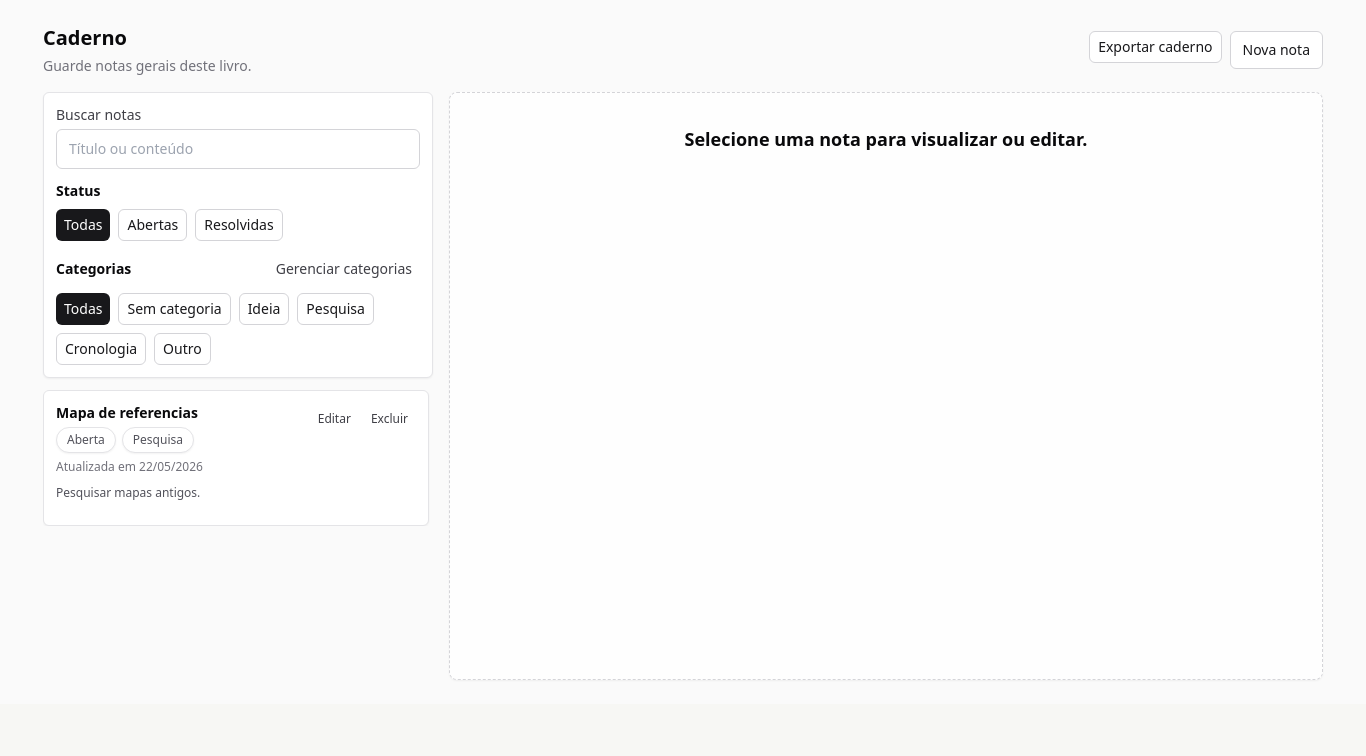
Test: NotebookPanel writing layout and status › criar nota abre a nota e a mantem visivel
Click the button "Resolvidas".
click(239, 225)  # box [195, 209, 283, 241]
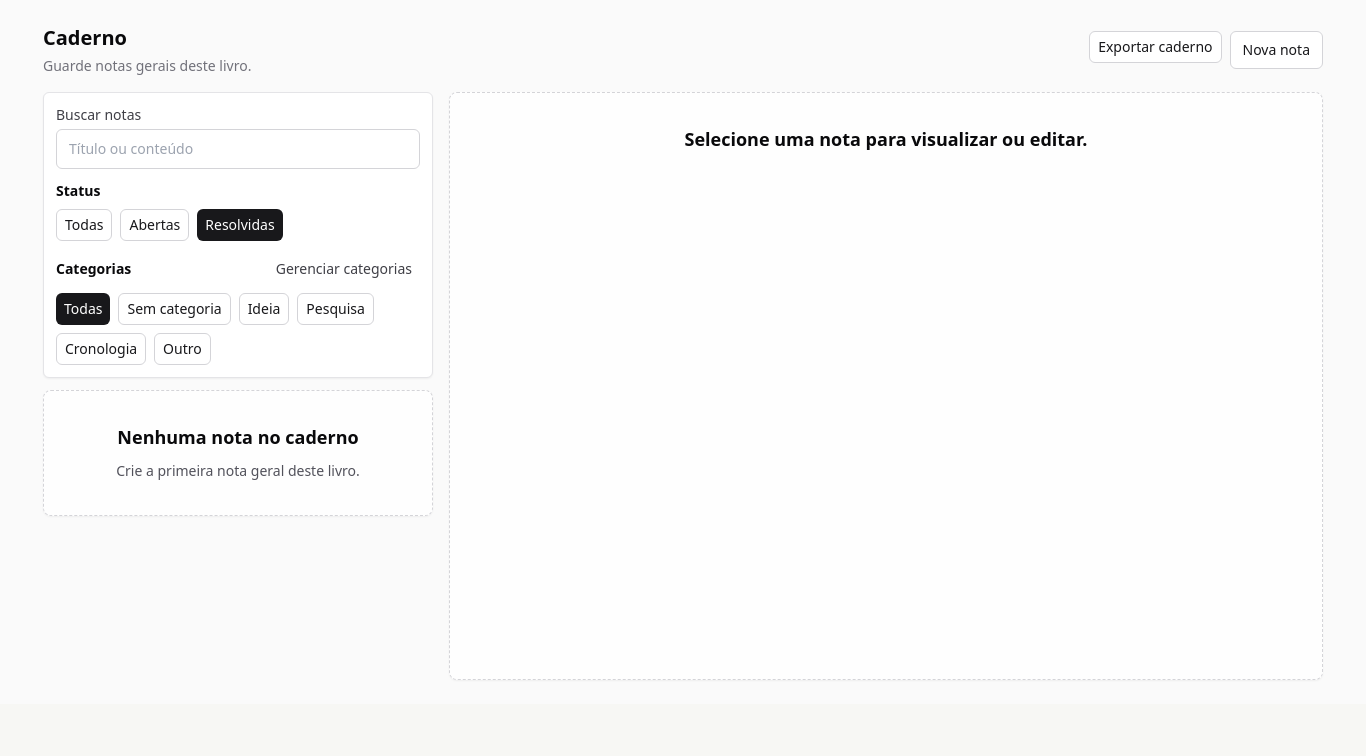
Type "nao aparece" into the field labelled "Buscar notas".
click(238, 149); type("nao aparece")  # box [56, 129, 420, 169]
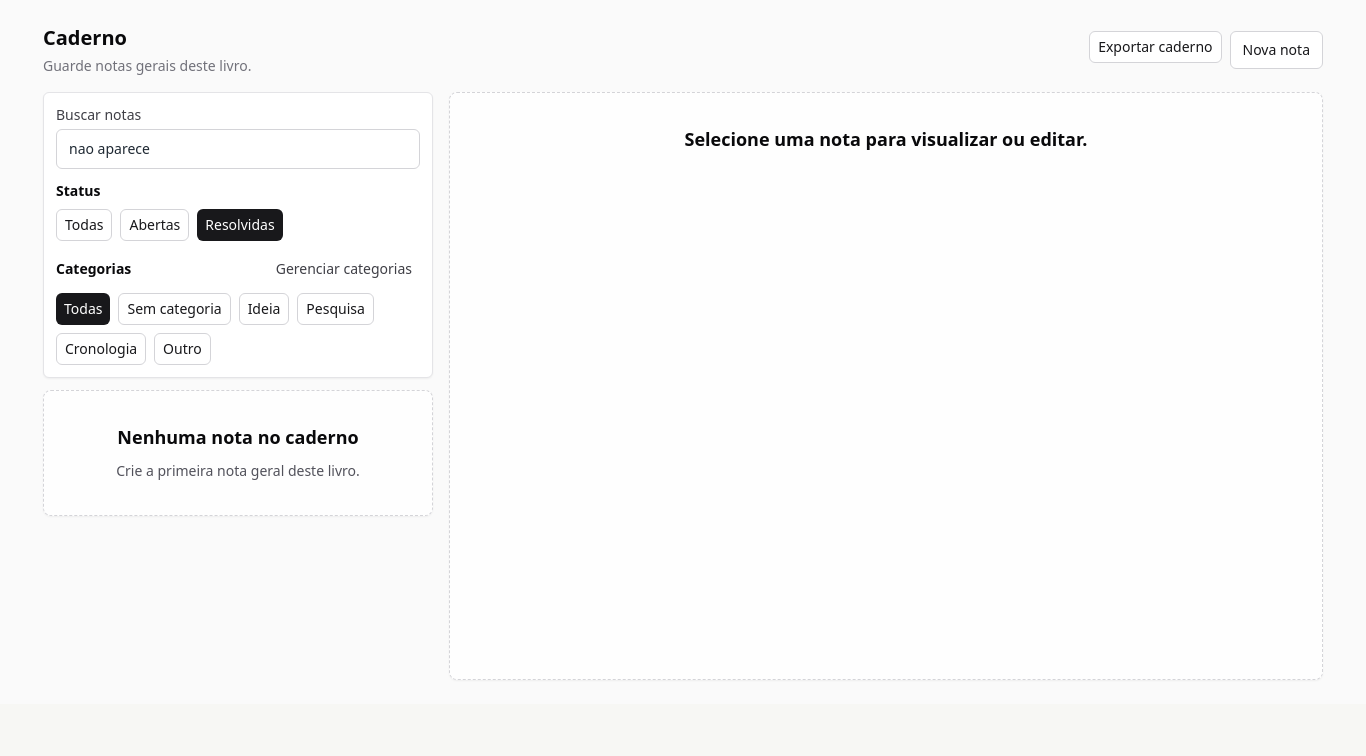
Click the button "Nova nota".
click(1276, 50)  # box [1230, 31, 1323, 69]
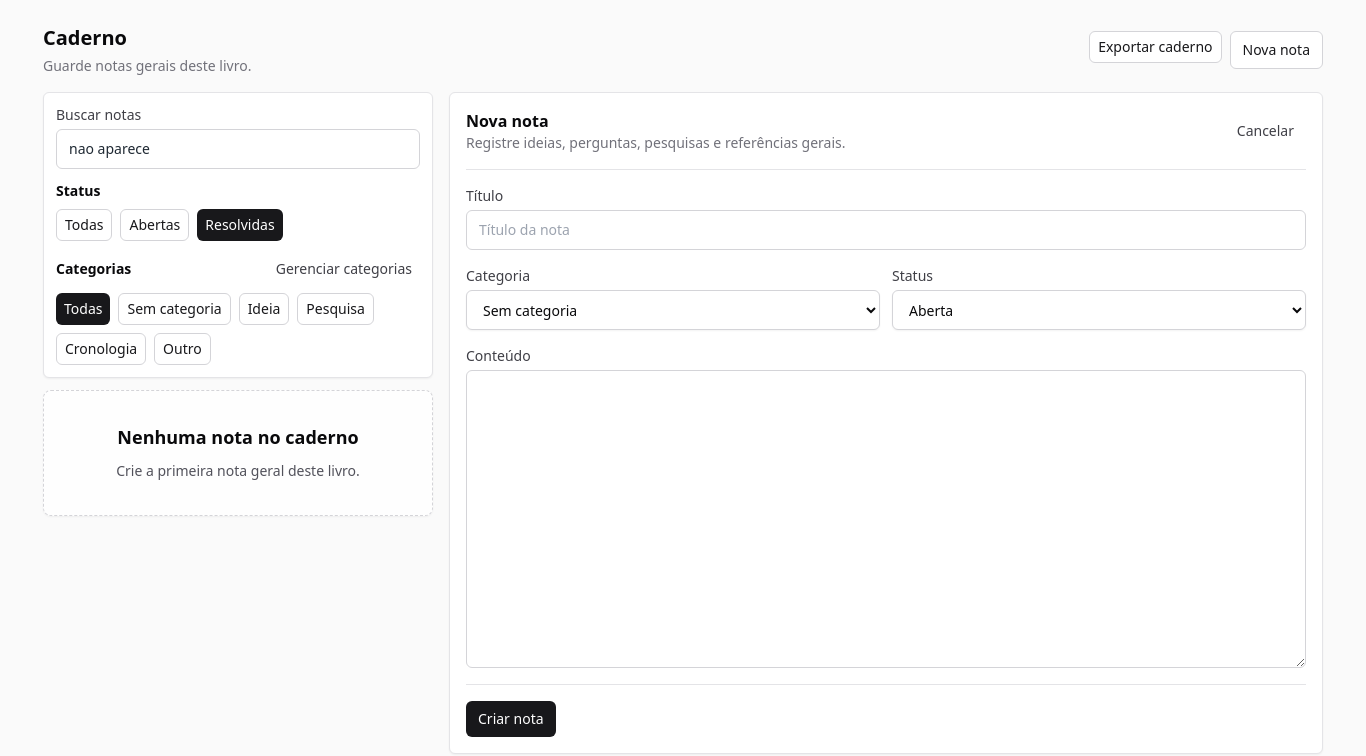
Type "Linha alternativa" into the field labelled "Título".
click(886, 230); type("Linha alternativa")  # box [466, 210, 1306, 250]
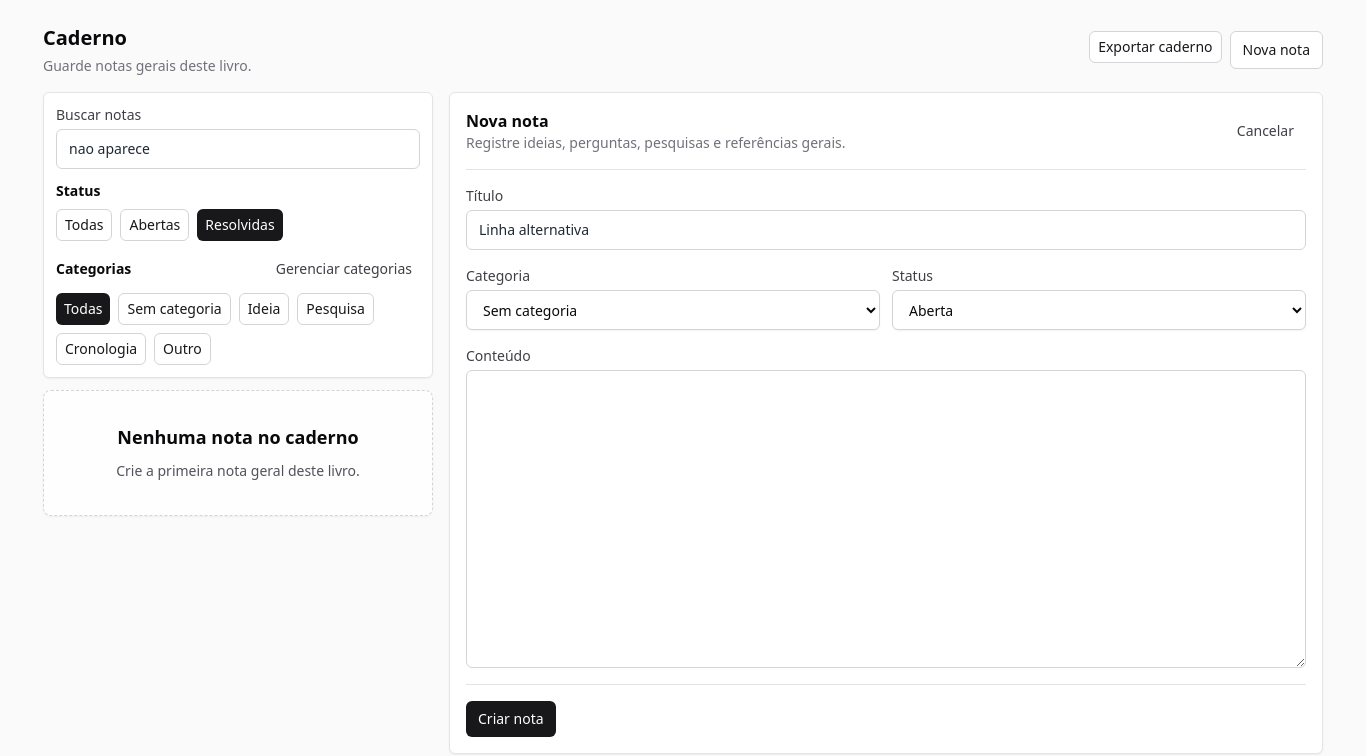
Select "Cronologia" in the dropdown labelled "Categoria" at (673,310), box [466, 290, 880, 330]
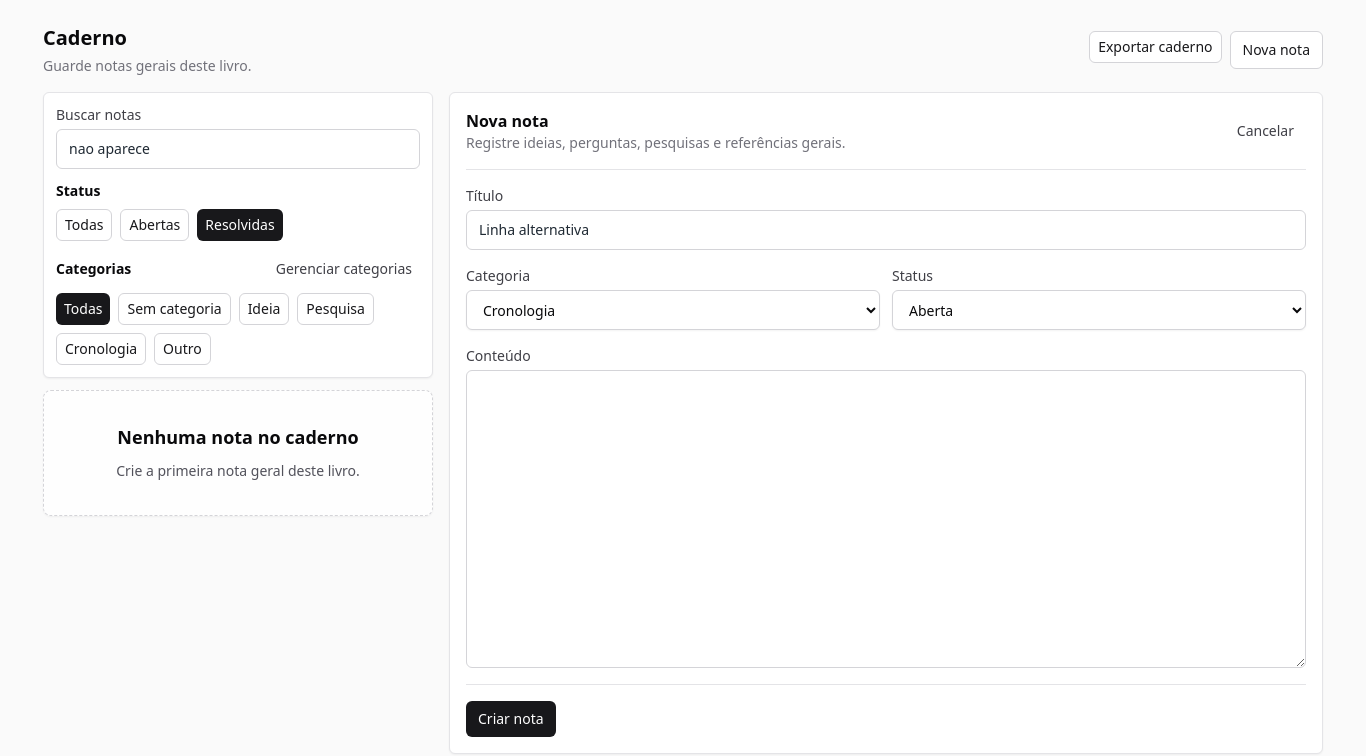
Click the button "Criar nota".
click(511, 719)  # box [466, 701, 556, 737]
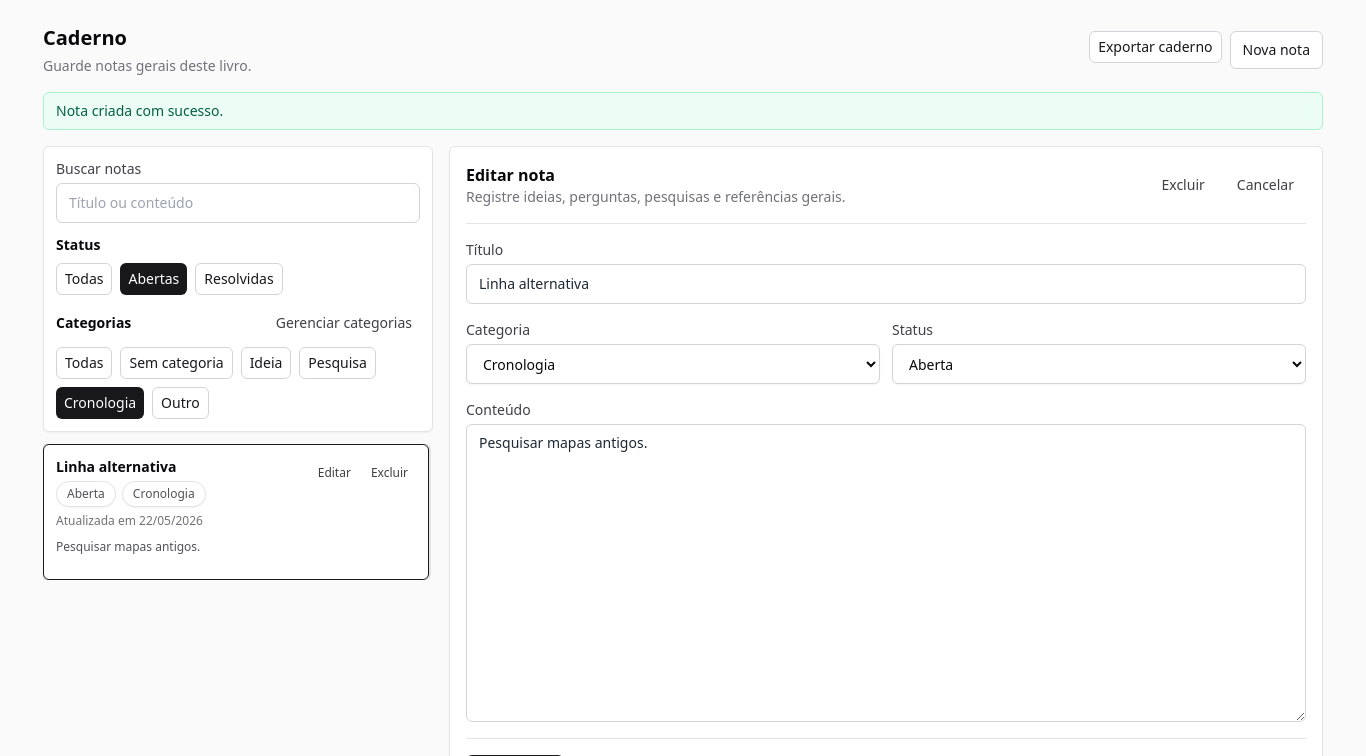
Result: the text "Nota criada com sucesso." is shown at [43, 92, 1323, 130]
Result: the heading "Linha alternativa" is shown at [56, 457, 176, 476]
Result: the heading "Editar nota" is shown at [466, 164, 555, 186]
